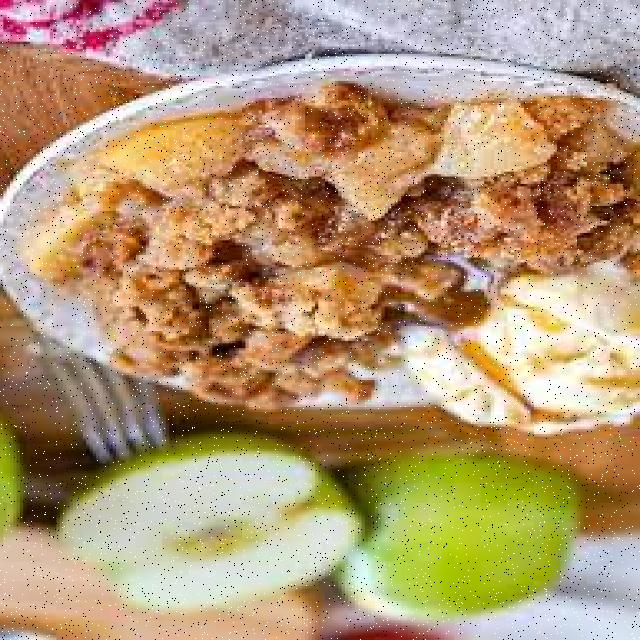Apple: (52, 433, 363, 610), (334, 464, 586, 618)
